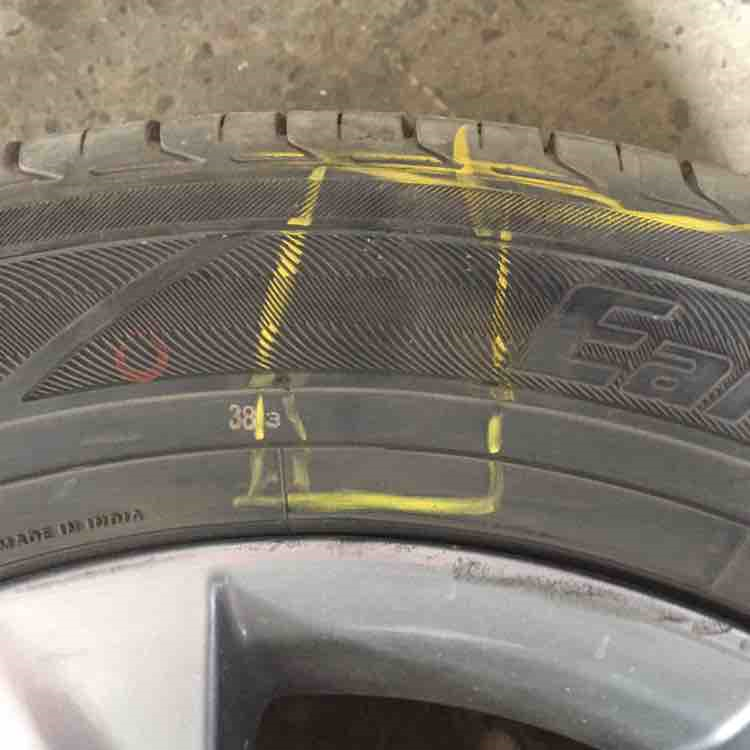CBU: (356, 217, 447, 381)
